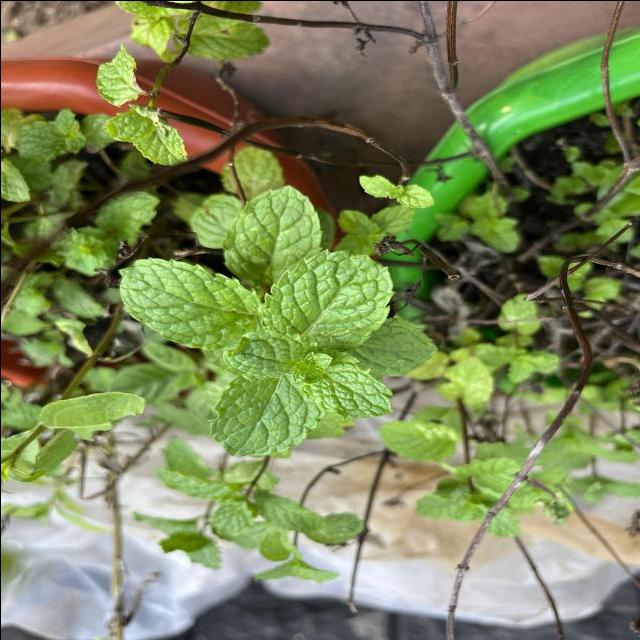Mentha spicata: (262, 246, 397, 352), (116, 255, 264, 350), (206, 375, 326, 457), (222, 182, 323, 278), (295, 346, 394, 419)
